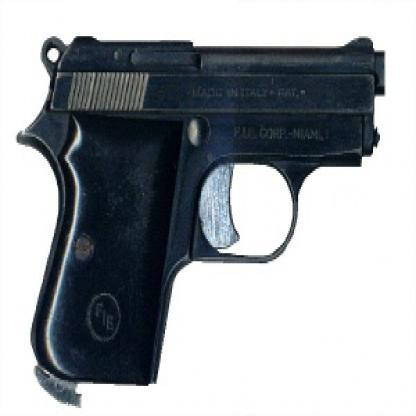Guns: (13, 26, 388, 412)
